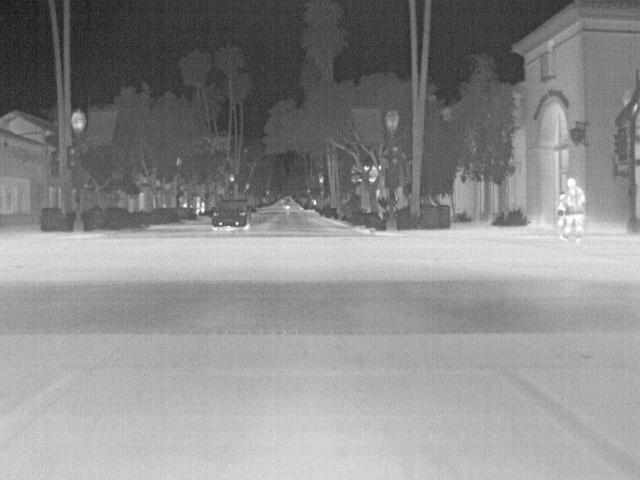car: (211, 198, 250, 230)
person: (563, 177, 587, 246), (554, 192, 566, 228)
